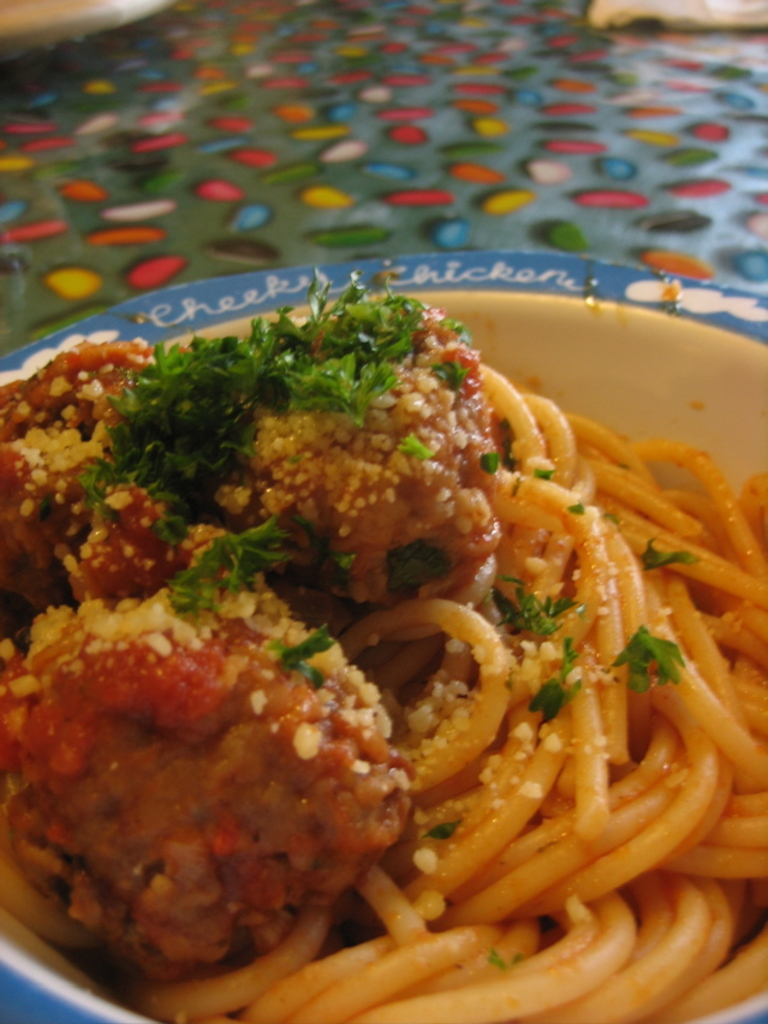pasta: (16, 273, 763, 1002)
